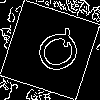Q: (25, 25, 85, 82)
